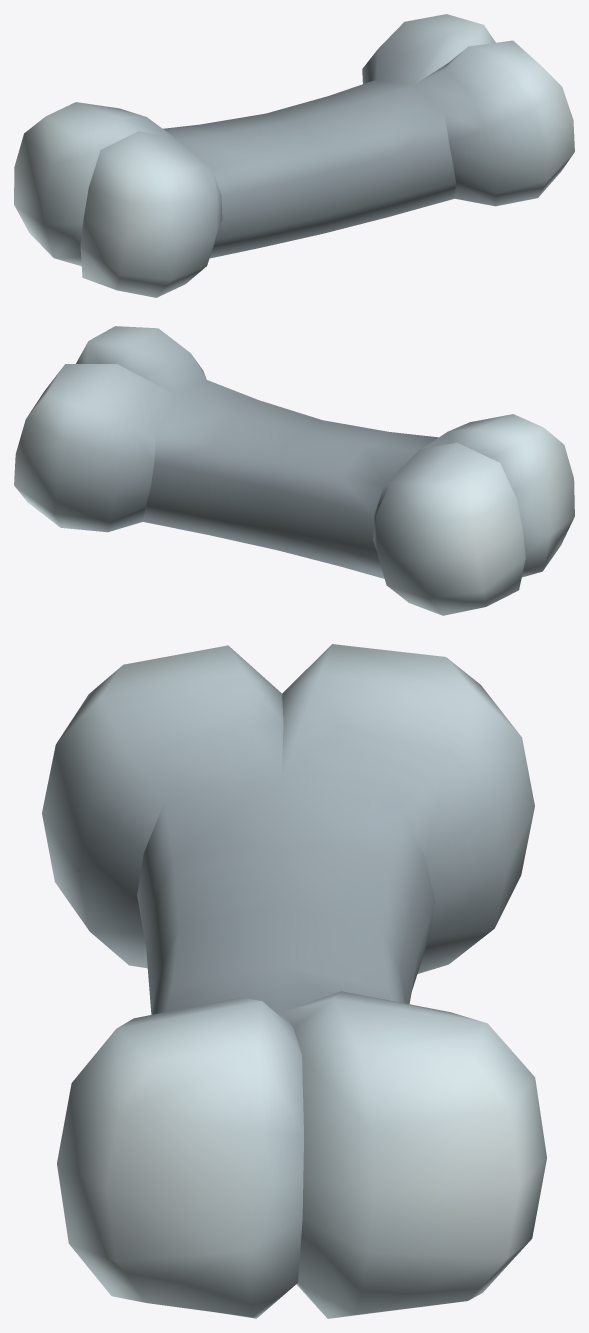
Rendered from bone_LOD_group.fbx.
3 renders of one model, top to bottom at view 1: azimuth 30°, elevation 25°; view 2: azimuth 150°, elevation 25°; view 3: azimuth 270°, elevation 25°, orthographic. The views are drawn at different scales.
Parts seen in each view (by area): view 1: bone_LOD0; view 2: bone_LOD0; view 3: bone_LOD0.
Part boxes in pixels (x1=…): bone_LOD0: x1=14, y1=14, x2=574, y2=297; bone_LOD0: x1=14, y1=326, x2=574, y2=615; bone_LOD0: x1=42, y1=644, x2=546, y2=1318.
Size of what is drawn, in the model's own units: 94.88 by 28.42 by 43.61.
Materials: 1 (1 with a texture image).
